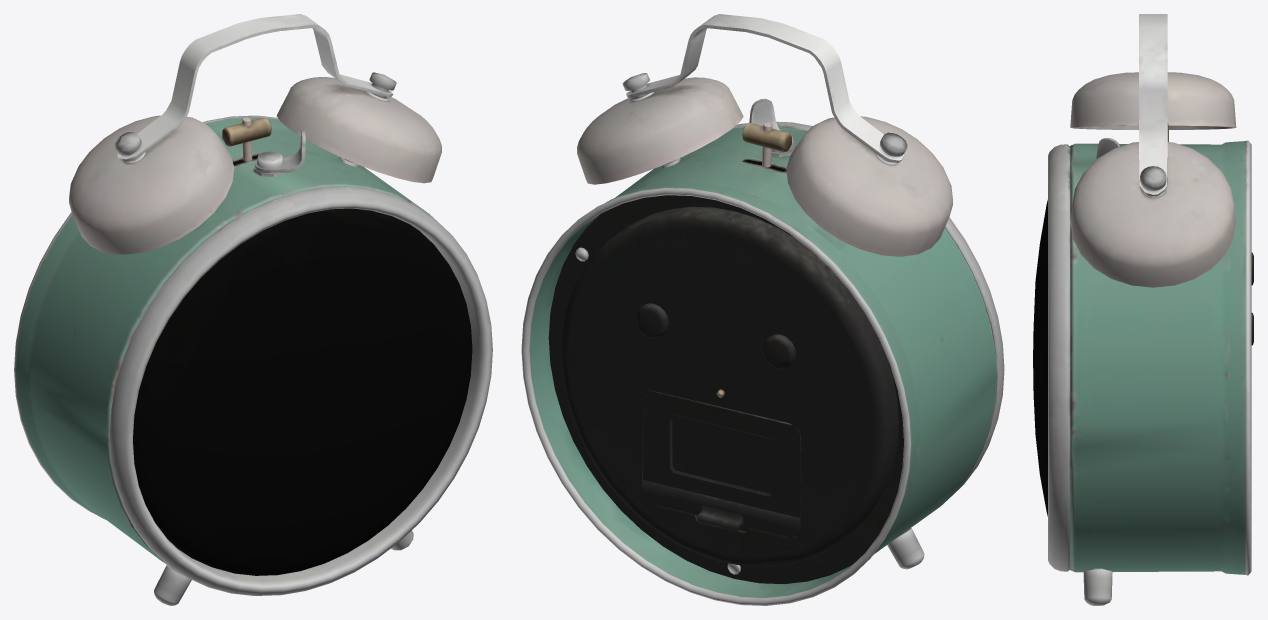
Rendered from alarm_clock_01.glb.
The picture shows the model from 3 angles, left to right: view 1: azimuth 30°, elevation 25°; view 2: azimuth 150°, elevation 25°; view 3: azimuth 270°, elevation 25°; orthographic projection. The views are drawn at different scales.
Parts seen in each view (by area): view 1: alarm_clock_01; view 2: alarm_clock_01; view 3: alarm_clock_01.
Part boxes in pixels (x1,y1,x2,y2): alarm_clock_01: (14,14,492,605); alarm_clock_01: (521,14,1004,605); alarm_clock_01: (1033,14,1253,605).
Size of the model in its own units: 0.1316 by 0.1741 by 0.0667.
Materials: 2 (2 with a texture image).
